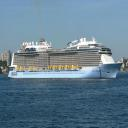cruises: (7, 37, 125, 80)
